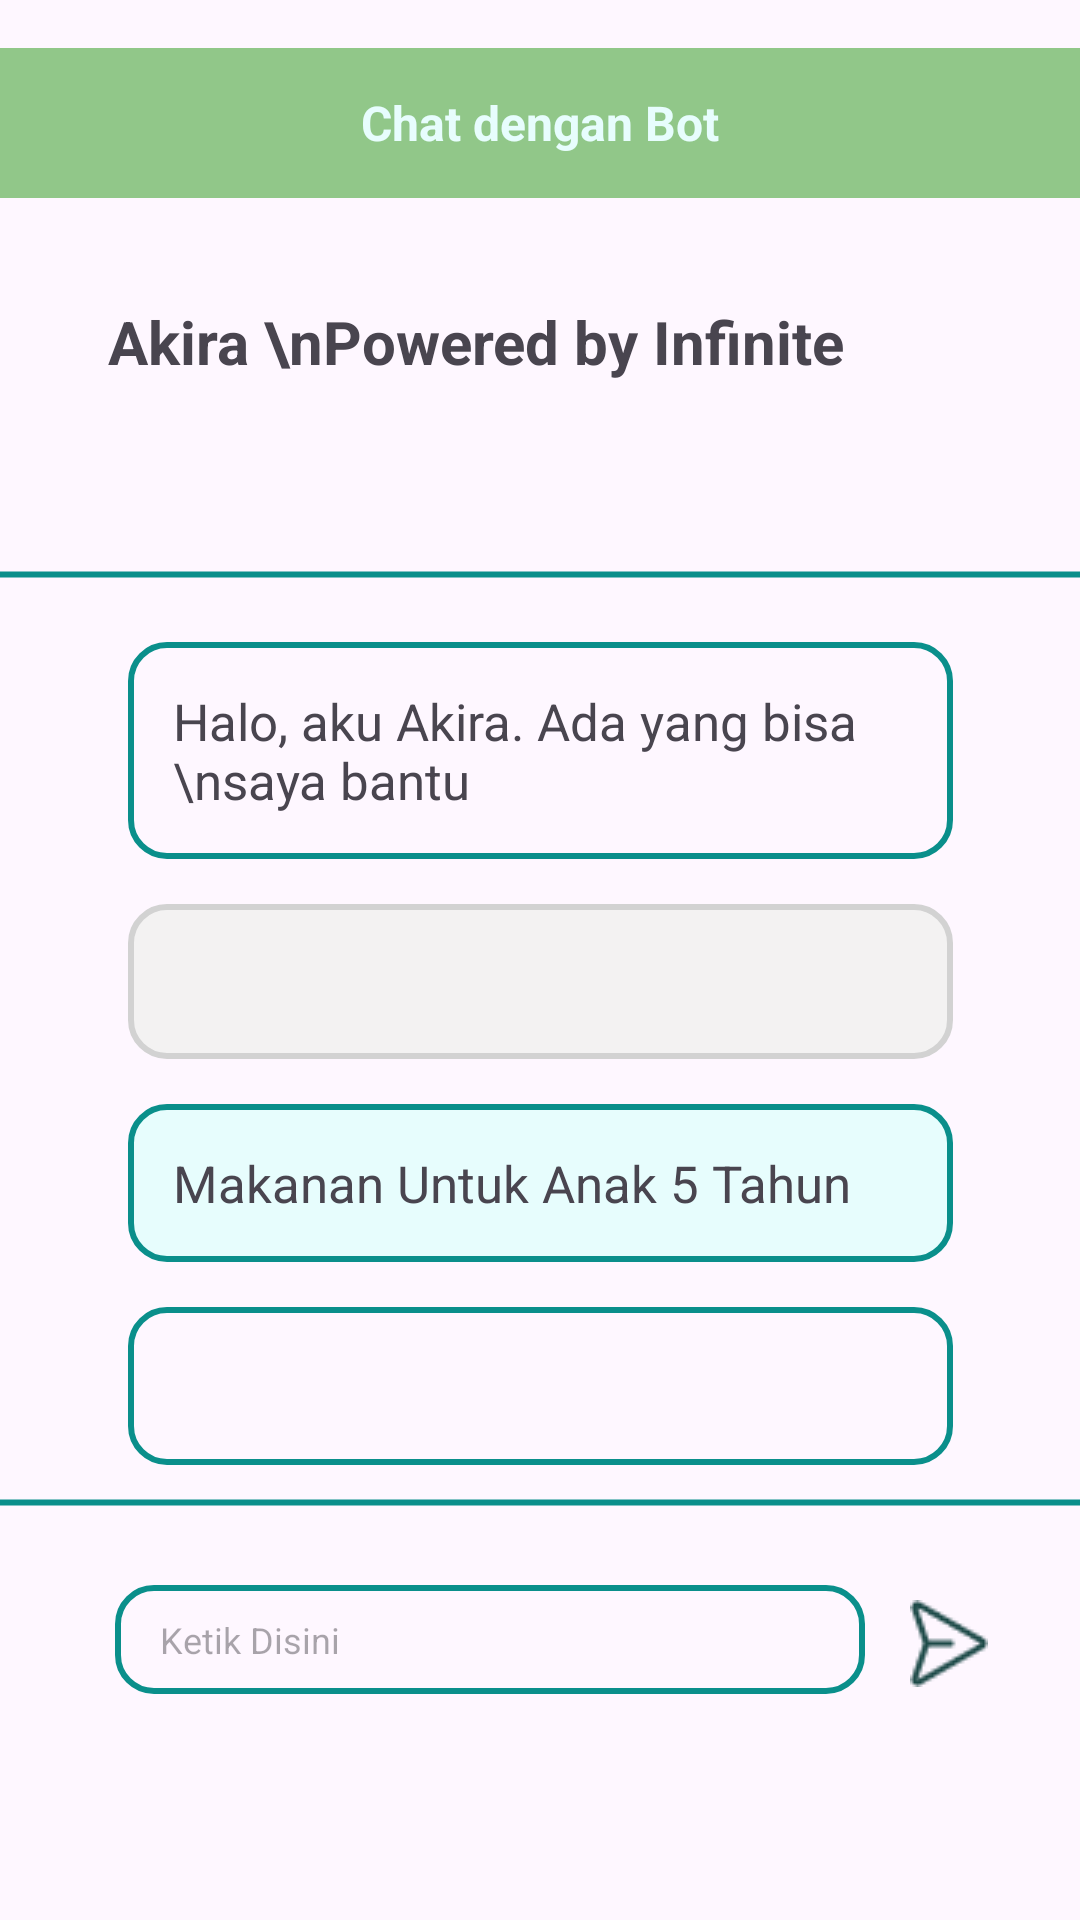

Named icons in this screenshot (1080 × 1920) and their centers, point (x, y):
send: point (949, 1643)
